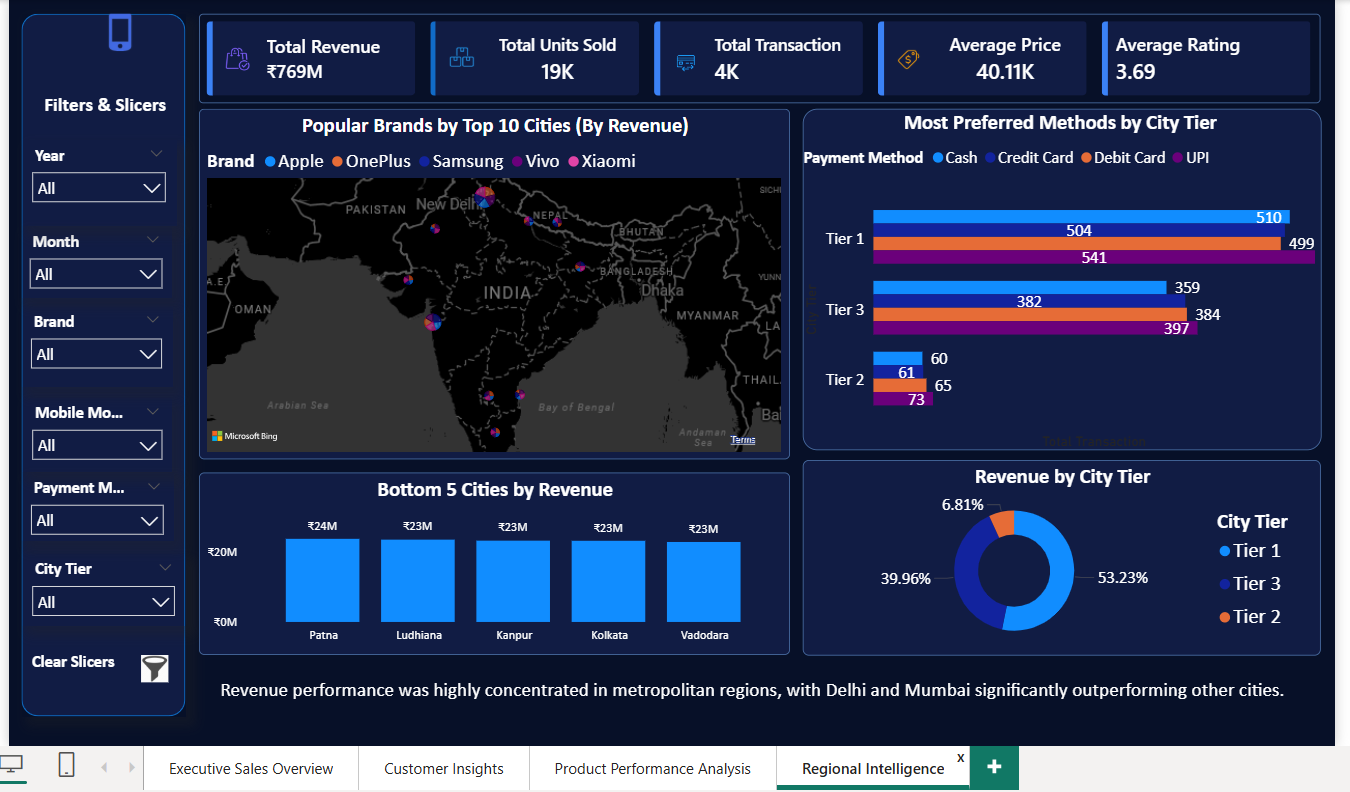

This screenshot's page, from the dashboard's own definition file:
{"tool":"powerbi","page":{"name":"Regional Intelligence","canvas":[1280,720],"ordinal":3},"visuals":[{"type":"shape","box":[12.1,13.3,158,678],"z":0},{"type":"image","box":[16.9,13.3,181,36.2],"z":1000},{"type":"slicer","fields":{"Values":["Dim_Date.Date.Variation.Date Hierarchy.Month"]},"box":[9.7,218.4,148.4,68.8],"z":2000},{"type":"slicer","fields":{"Values":["Sales_Data.Brand"]},"box":[10.9,295.6,147.2,78.4],"z":3000},{"type":"slicer","fields":{"Values":["Sales_Data.Mobile Model"]},"box":[12.1,383.6,146,72.4],"z":4000},{"type":"slicer","fields":{"Values":["Sales_Data.Payment Method"]},"box":[10.9,456,148.4,66.4],"z":5000},{"type":"textbox","box":[29,80.8,155.6,38.6],"z":6000},{"type":"image","box":[121.9,632.2,37.4,26.5],"z":7000},{"type":"slicer","fields":{"Values":["Dim_Date.Date.Variation.Date Hierarchy.Year"]},"box":[12.1,135.1,149.6,83.2],"z":8000},{"type":"donutChart","title":"Revenue by City Tier","fields":{"Y":["Fact_Sales.Total Revenue"],"Category":["Dim_Customer.City Tier"]},"box":[766.2,443.8,500,188.8],"z":9000},{"type":"slicer","fields":{"Values":["Dim_Customer.City Tier"]},"box":[12.1,534.5,158,70],"z":10000},{"type":"textbox","box":[16.9,617.7,133.9,55.5],"z":11000},{"type":"columnChart","title":"Bottom 5 Cities by Revenue","fields":{"Category":["Dim_Customer.City"],"Y":["Fact_Sales.Total Revenue"]},"box":[183.8,456.2,570,176.2],"z":12000},{"type":"clusteredBarChart","title":"Most Preferred Methods by City Tier","fields":{"Category":["Dim_Customer.City Tier"],"Series":["Dim_Payments.Payment Method"],"Y":["Fact_Sales.Total Transaction"]},"box":[766.1,105,500.7,329.4],"z":13000},{"type":"map","title":"Popular Brands by Top 10 Cities (By Revenue)","fields":{"Category":["Dim_Customer.City"],"Size":["Fact_Sales.Total Revenue"],"Series":["Dim_Product.Brand"]},"box":[183.8,105,570,338.8],"z":14000},{"type":"cardVisual","fields":{"Data":["Sales_Data.Total Sales","Sales_Data.Total Quantity","Sales_Data.Total Transaction","Sales_Data.Average","Fact_Sales.Average Rating"]},"box":[183.8,13.8,1082.5,86.2],"z":15000},{"type":"textbox","box":[198.8,645,1052.5,65],"z":16000}]}

Visuals, with their boxes on the page's 1280x720 design canvas (x1, y1, x2, y2). These are canvas units, not pixel positions in the 1350x792 screenshot, which may show the page scaled, cropped or inside an application window:
shape: (x1=12, y1=13, x2=170, y2=691)
image: (x1=17, y1=13, x2=198, y2=50)
slicer - Dim_Date.Date.Variation.Date Hierarchy.Month: (x1=10, y1=218, x2=158, y2=287)
slicer - Sales_Data.Brand: (x1=11, y1=296, x2=158, y2=374)
slicer - Sales_Data.Mobile Model: (x1=12, y1=384, x2=158, y2=456)
slicer - Sales_Data.Payment Method: (x1=11, y1=456, x2=159, y2=522)
textbox: (x1=29, y1=81, x2=185, y2=119)
image: (x1=122, y1=632, x2=159, y2=659)
slicer - Dim_Date.Date.Variation.Date Hierarchy.Year: (x1=12, y1=135, x2=162, y2=218)
"Revenue by City Tier" donutChart: (x1=766, y1=444, x2=1266, y2=633)
slicer - Dim_Customer.City Tier: (x1=12, y1=534, x2=170, y2=604)
textbox: (x1=17, y1=618, x2=151, y2=673)
"Bottom 5 Cities by Revenue" columnChart: (x1=184, y1=456, x2=754, y2=632)
"Most Preferred Methods by City Tier" clusteredBarChart: (x1=766, y1=105, x2=1267, y2=434)
"Popular Brands by Top 10 Cities (By Revenue)" map: (x1=184, y1=105, x2=754, y2=444)
cardVisual - Sales_Data.Total Sales x Sales_Data.Total Quantity: (x1=184, y1=14, x2=1266, y2=100)
textbox: (x1=199, y1=645, x2=1251, y2=710)
